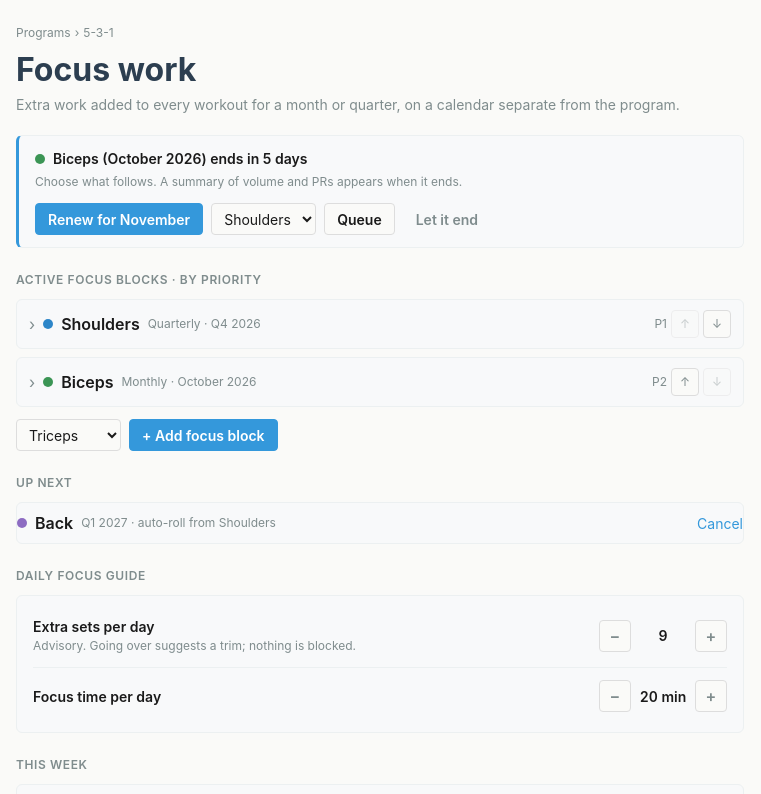
Scenario: FocusSetup › does not claim the stored state is shown when the re-read after a failed save fails too
What coordinates should you click on to do the following:
click the button "› Biceps Monthly · October 2026"
I would click on:
 (87, 382)
Its box is [29,366,644,398].
(page scrolled)
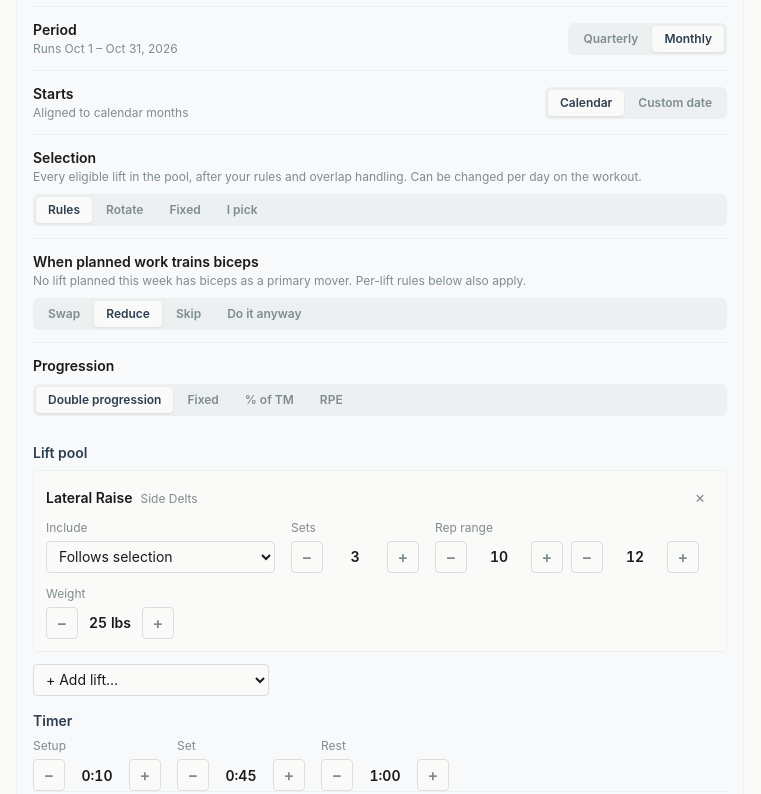
What coordinates should you click on to do the following:
click the radio button labelled "RPE"
I would click on:
 (331, 400)
Its box is [308,387,355,413].
(page scrolled)
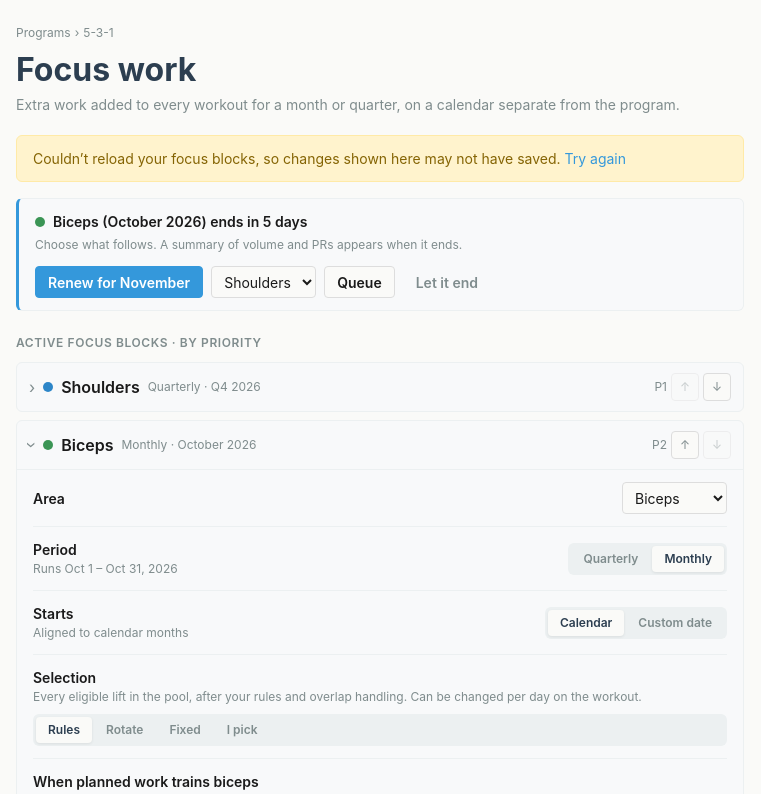
Expected: the text "Couldn’t reload your focus blocks" is shown, [33,150,561,167]
